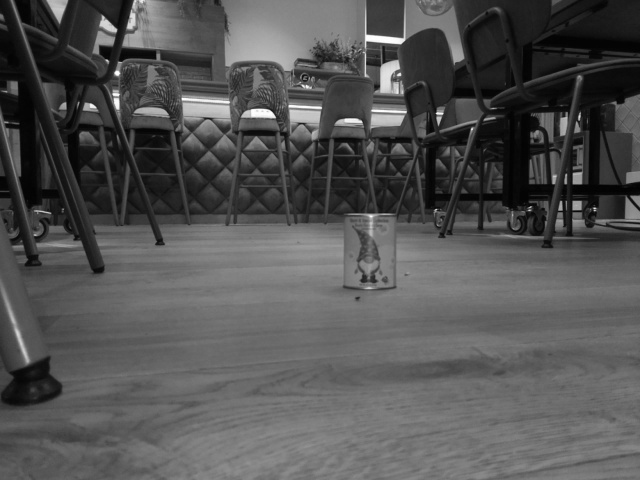gnome: (346, 224, 390, 286)
